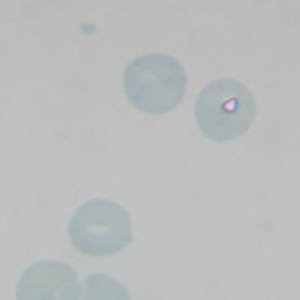erythrocyte: (192, 76, 258, 144), (66, 197, 135, 257)
punctate reticulocyte: (121, 52, 190, 116)
